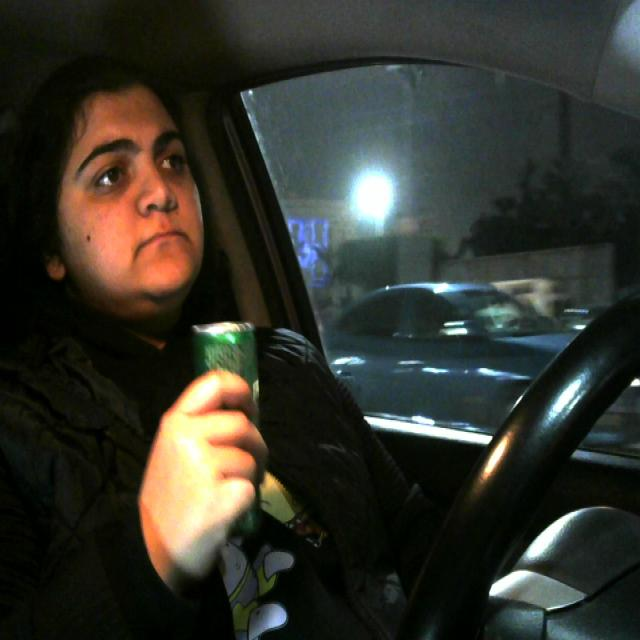drinking: (182, 314, 269, 537)
